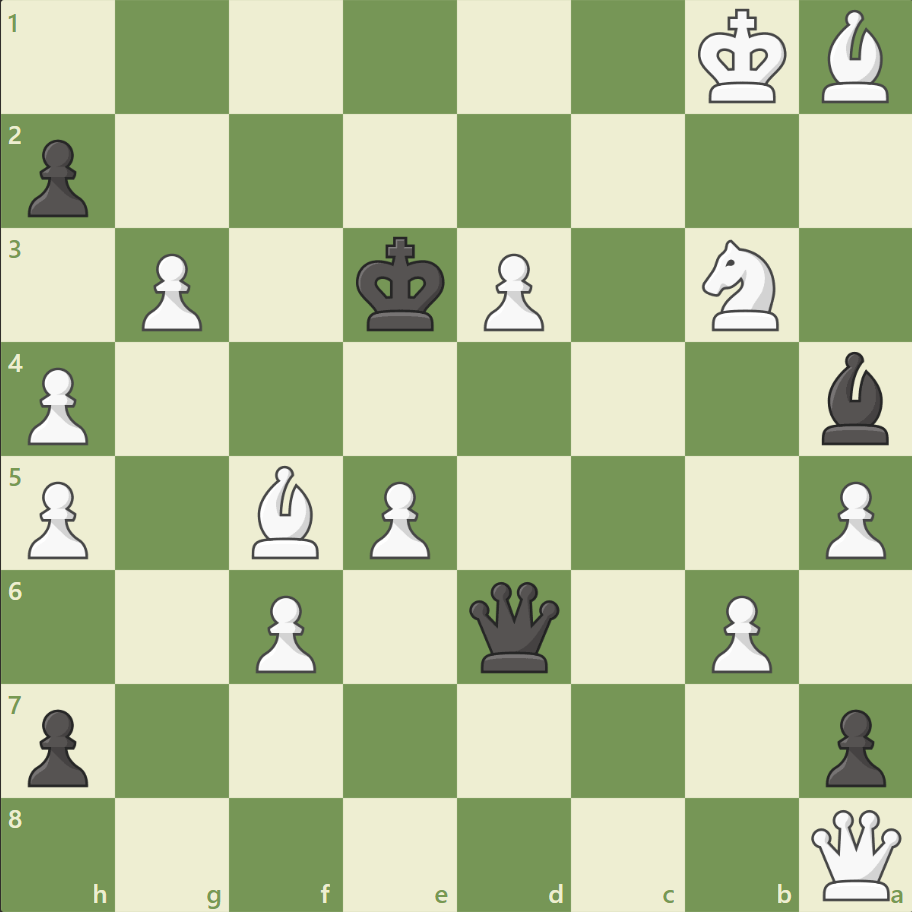B: (244, 460, 328, 563), (812, 6, 896, 109)
K: (692, 4, 792, 112)
N: (692, 234, 789, 337)
P: (701, 586, 776, 677), (247, 586, 322, 677), (20, 473, 95, 564), (20, 359, 95, 450), (474, 246, 549, 337), (133, 246, 208, 337), (815, 473, 889, 564), (361, 473, 435, 564)
Q: (805, 804, 904, 903)
b: (812, 347, 896, 449)
k: (351, 231, 451, 339)
p: (20, 700, 95, 791), (20, 132, 95, 223), (815, 700, 889, 791)
q: (464, 576, 563, 676)
